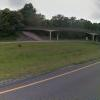Tree: (2, 3, 54, 42)
